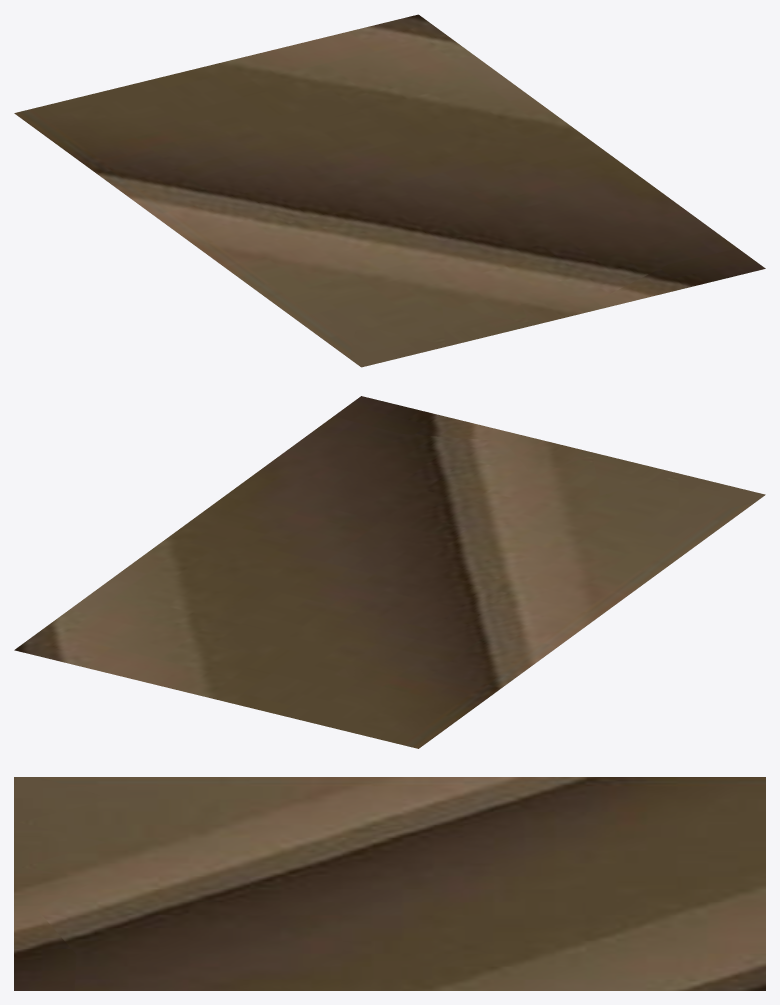
The picture shows the model from 3 angles, top to bottom: view 1: azimuth 30°, elevation 25°; view 2: azimuth 150°, elevation 25°; view 3: azimuth 270°, elevation 25°; orthographic projection. The views are drawn at different scales.
Bounding box in the file's own units: 2.29 × 7.82e-05 × 3.4.
Materials: 1 (1 with a texture image).
